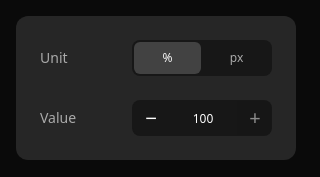
App Component › should remove invalid characters on blur: 123a -> 123
The width and height of the screenshot is (320, 177).
Click the button "px" at x=236, y=58, box [203,42,270,74]
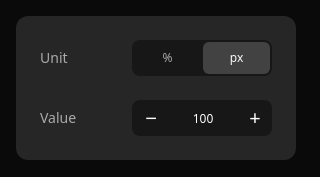
Replace the text in the field with "123a" at x=203, y=118, box [169,100,237,136]
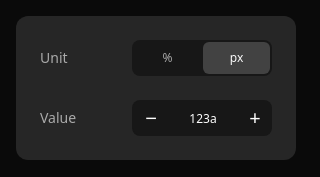
Leave the field, box [169,100,237,136]
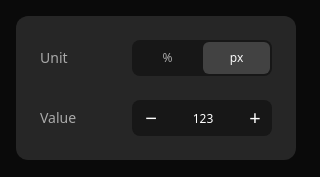
Now the field holds "123", box [169,100,237,136]
